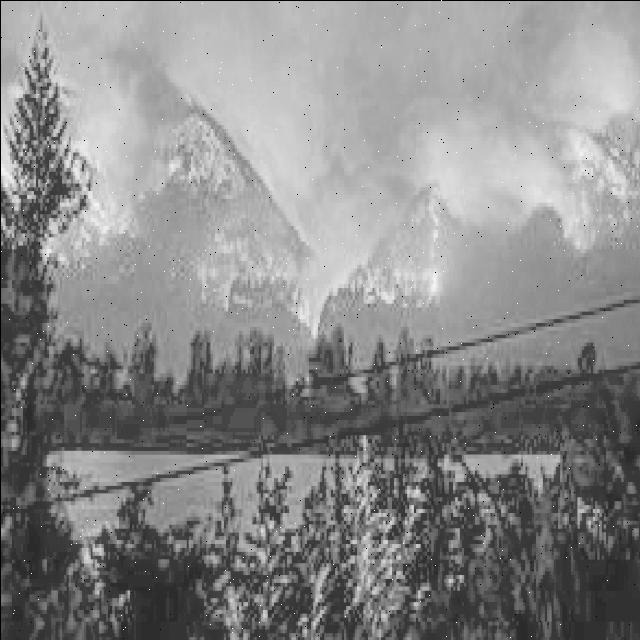api: (196, 229, 439, 334), (525, 125, 622, 247), (80, 187, 129, 235)
asap: (47, 1, 369, 256)
